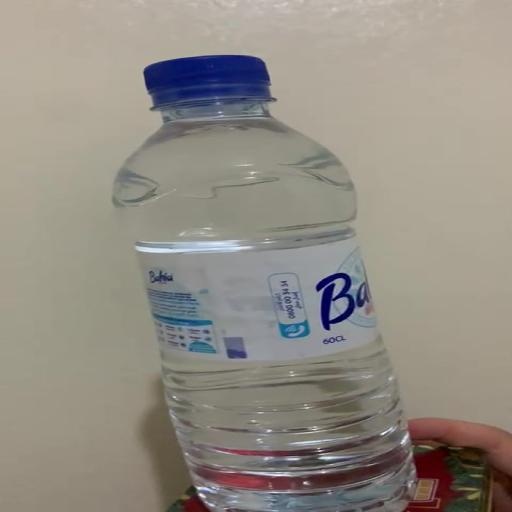bouteille conformite: (135, 29, 455, 512)
